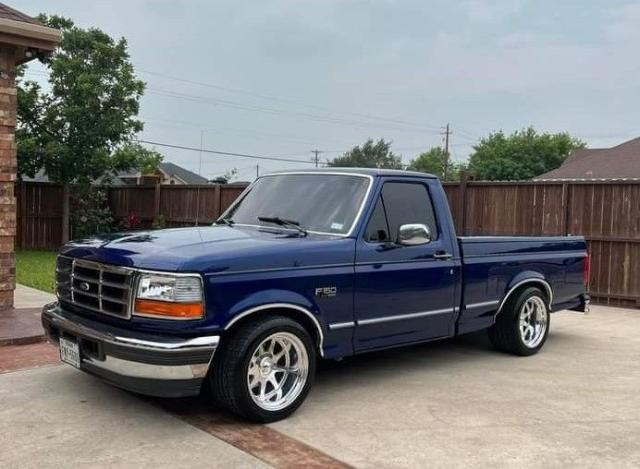pickup-truck: (41, 167, 592, 425)
